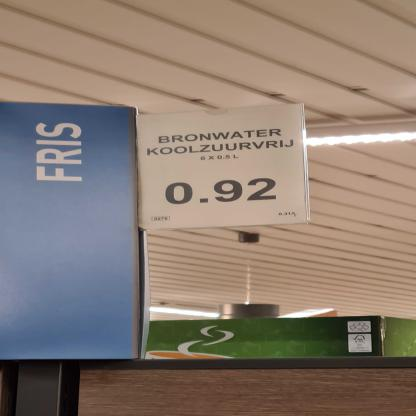prtg: (136, 104, 310, 233)
